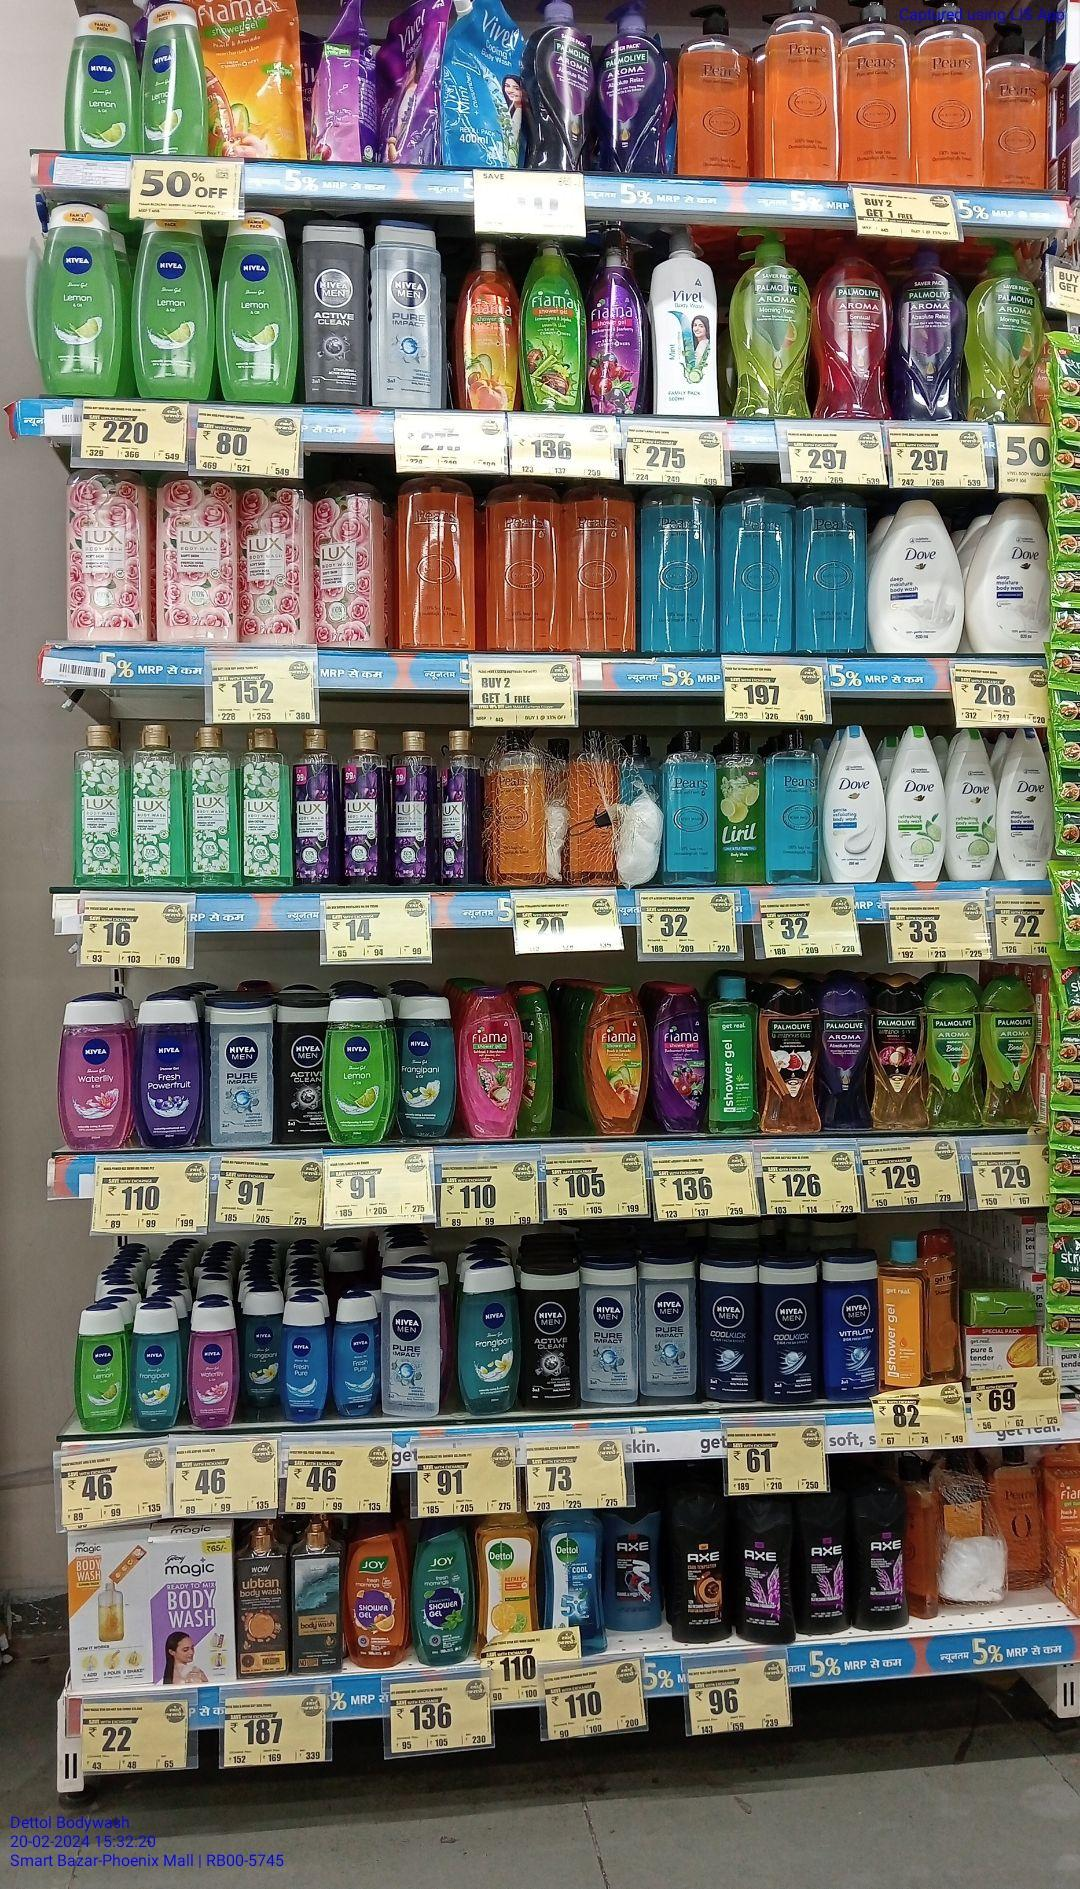Dettol_Bodywash_Cool: (544, 1509, 601, 1624)
Dettol_Bodywash_Refresh: (479, 1514, 541, 1636)
Dove_Deep_Moisture_Body_Wash_250ML: (1000, 724, 1049, 880)
Dove_Gentle_Exfoliating_Body_Wash_250ML: (824, 724, 885, 882)
Dove_Refreshing_Body_Wash_250ML: (889, 724, 944, 882), (946, 727, 997, 880)
Fiama_Shower_Gel_Patchouli_and_Macadamia_250ML: (458, 987, 522, 1137)
Fiama_Shower_Gel_Peach_and_Avocado_250ML: (587, 989, 648, 1134)
Get_Real_Shower_Gel_Moisturising_Glycerin_300ML: (924, 1233, 961, 1383)
Joy_Shower_Gel_Mandarin_and_Lemongrass_250ML: (343, 1517, 408, 1668)
Joy_Shower_Gel_Mint_and_Eucalyptus_250ML: (411, 1518, 474, 1666)
Liril_Lime_and_Tea_Tree_Oil_Body_Wash_250ML: (719, 728, 765, 885)
Lux_Black_Orchid_Scent_and_Juniper_Oil_Body_Wash_245ML: (340, 728, 386, 885), (295, 723, 336, 887), (391, 729, 434, 885), (437, 728, 479, 884)
Lux_Body_Wash_Skin_Detox_Freesia_Scent_and_Alove_Vera_245ML: (186, 724, 239, 889), (75, 728, 129, 890), (241, 725, 289, 886), (135, 727, 182, 890)
Nivea_Shower_Gel_Frangipani_and_Oil_250ML: (460, 1265, 522, 1415), (399, 1000, 454, 1139)
Nivea_Shower_Gel_Fresh_Powerfruit_250ML: (138, 1002, 202, 1149)
Nivea_Shower_Gel_Lemon_and_Oil_250ML: (35, 201, 123, 397), (219, 219, 299, 405), (132, 221, 214, 400), (66, 10, 139, 153), (325, 998, 393, 1144), (143, 4, 208, 153)
Nivea_Shower_Gel_Waterlily_and_Oil_250ML: (58, 998, 135, 1148)
Palmolive_Aroma_Relax_250ML: (824, 980, 872, 1130)
Palmolive_Luminous_Oils_Invigorating_Macadamia_Oil_With_Peony_250ML: (876, 978, 927, 1131)
Palmolive_Luminous_Oils_With_White_Orchid_Shower_Gel_250ML: (758, 981, 822, 1133)
Pears_Pure_Glycerin_and_Mint_Extracts_Body_Wash_250ML: (663, 727, 718, 884), (770, 727, 822, 884)
